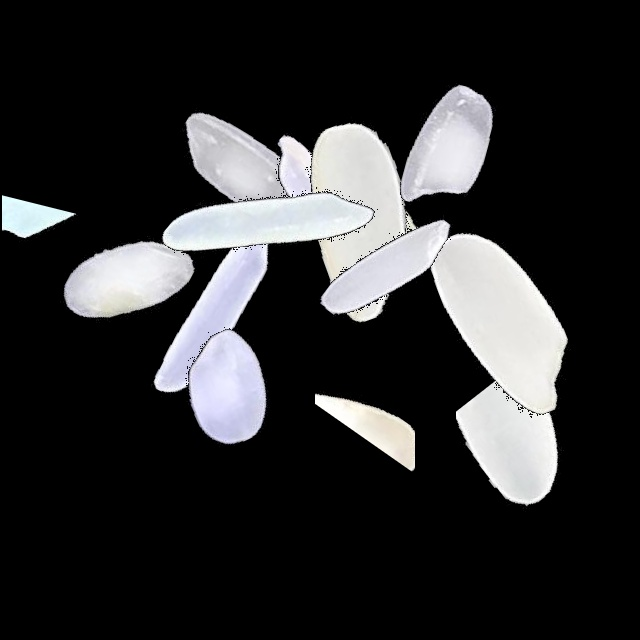Broken: (456, 322, 603, 572), (319, 69, 455, 319), (315, 252, 415, 502), (2, 127, 92, 377), (243, 444, 493, 519)
Full: (90, 185, 340, 435), (113, 42, 363, 292), (101, 265, 351, 515), (207, 93, 457, 343), (4, 156, 254, 406), (381, 195, 631, 445), (238, 95, 488, 345), (262, 139, 512, 389), (140, 101, 390, 351), (323, 20, 573, 270)
